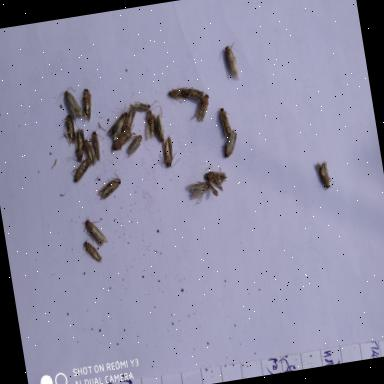pbw: (214, 38, 246, 90), (52, 82, 86, 128), (151, 131, 183, 178), (184, 87, 216, 128), (80, 210, 112, 250), (91, 167, 125, 203), (216, 122, 246, 162), (75, 82, 99, 130), (114, 102, 144, 140), (182, 174, 213, 210), (312, 154, 338, 194), (67, 121, 90, 166), (66, 154, 98, 186), (148, 101, 170, 147), (56, 110, 80, 152), (213, 100, 236, 142), (118, 130, 148, 162), (104, 106, 134, 138), (78, 234, 106, 268), (86, 124, 108, 166), (200, 166, 231, 193), (162, 80, 195, 105), (106, 127, 134, 155), (176, 80, 207, 103), (142, 104, 160, 142), (124, 95, 152, 118), (79, 135, 96, 168)
